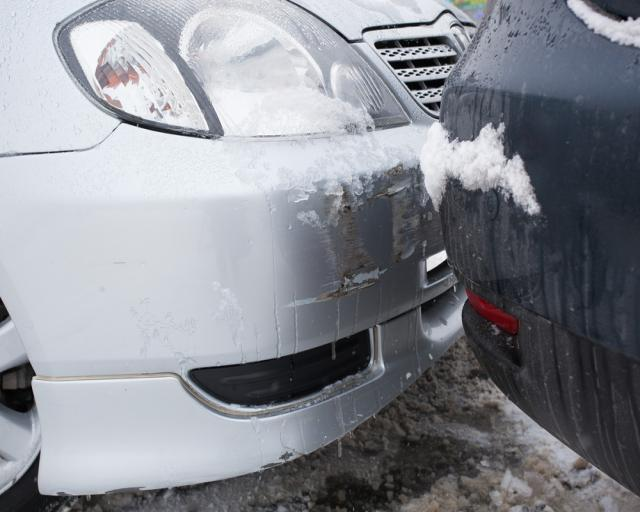scratch: (292, 165, 425, 314)
